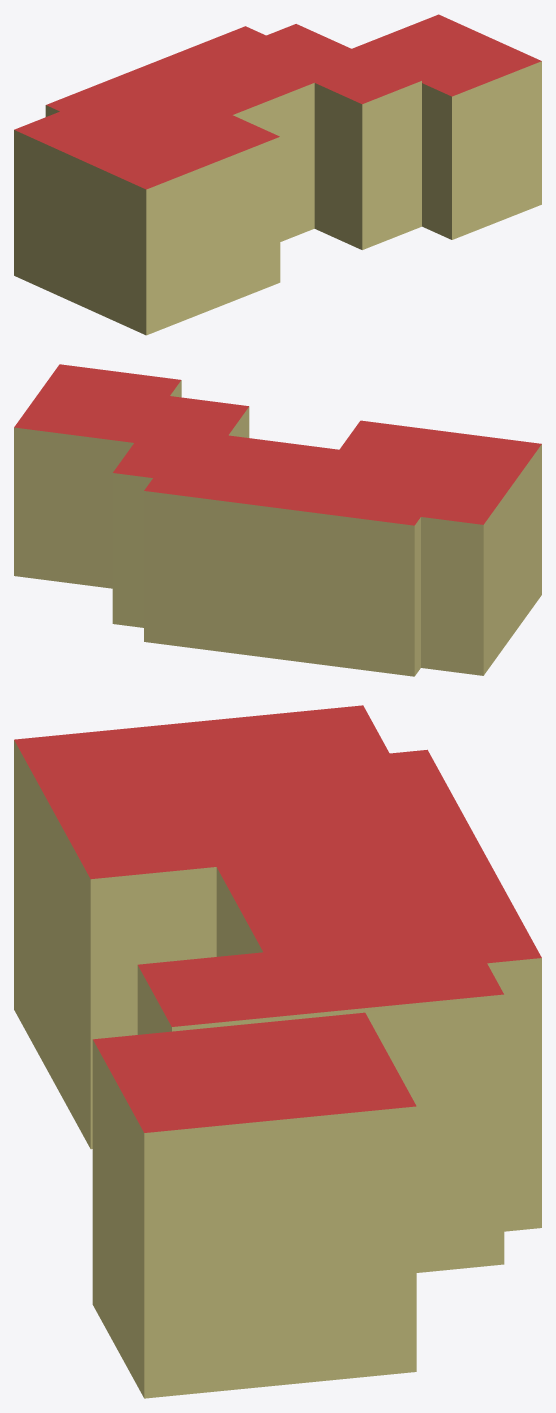
3 renders of one model, top to bottom at view 1: azimuth 30°, elevation 25°; view 2: azimuth 150°, elevation 25°; view 3: azimuth 270°, elevation 25°, orthographic. The views are drawn at different scales.
Size of the model in its own units: 32.16 by 16.95 by 9.57.
